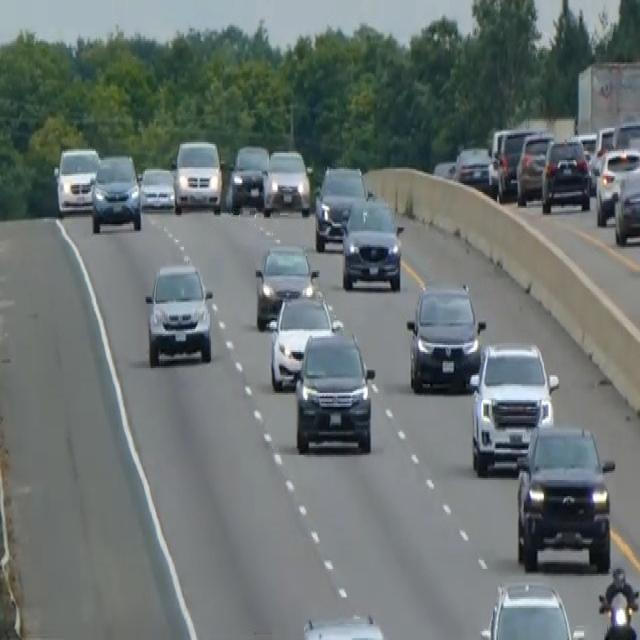car: (468, 340, 558, 474), (405, 279, 485, 393), (267, 283, 343, 391), (478, 578, 584, 638), (340, 194, 403, 292), (254, 242, 319, 329), (313, 162, 367, 252), (90, 151, 142, 233), (540, 135, 591, 213), (595, 146, 639, 226), (490, 125, 537, 199), (263, 146, 311, 217), (53, 144, 100, 215), (228, 142, 270, 212), (515, 130, 554, 204), (299, 612, 389, 638), (612, 160, 639, 245), (452, 142, 496, 194), (139, 163, 175, 210), (611, 115, 639, 153)
jeep: (514, 418, 616, 572), (292, 325, 376, 455), (143, 258, 214, 368)
minivan: (171, 135, 224, 215)
motorcycle: (596, 566, 639, 638)
